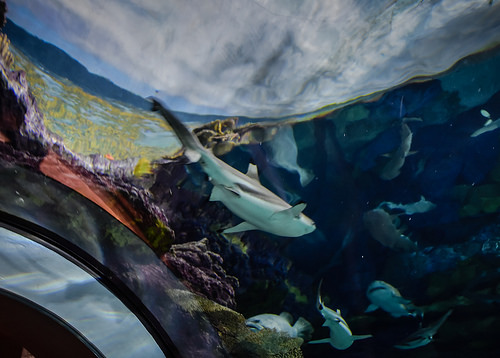shark: (128, 81, 325, 246)
